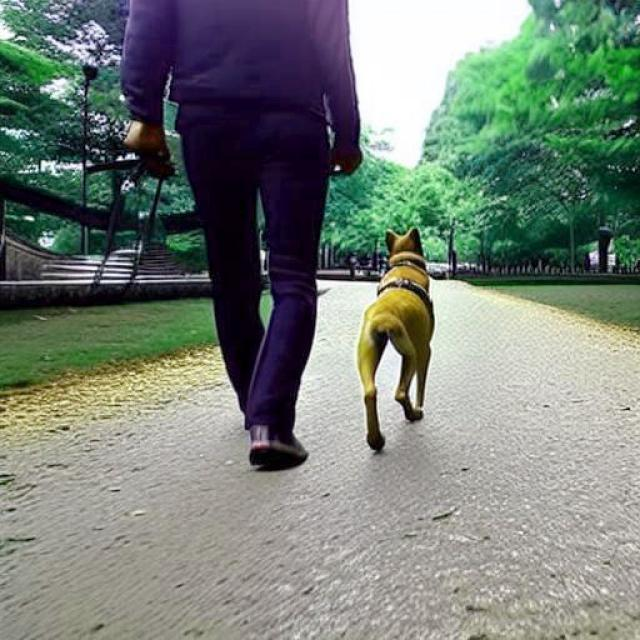Unleashed_Dog: (186, 99, 435, 452)
